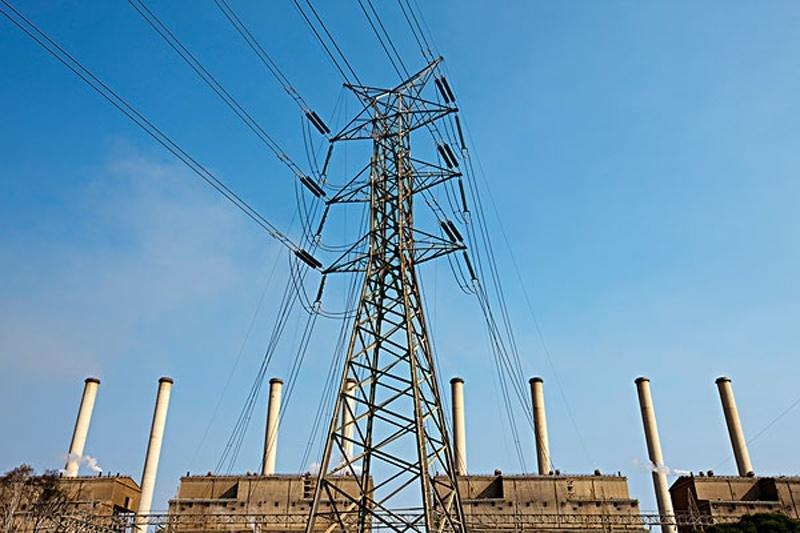power_tower: (279, 56, 484, 518)
